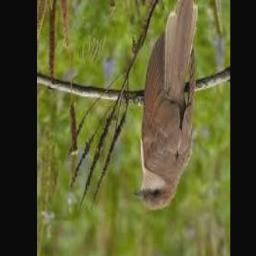Cuckoo: (133, 0, 198, 211)
